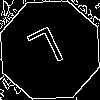L: (25, 25, 71, 79)
